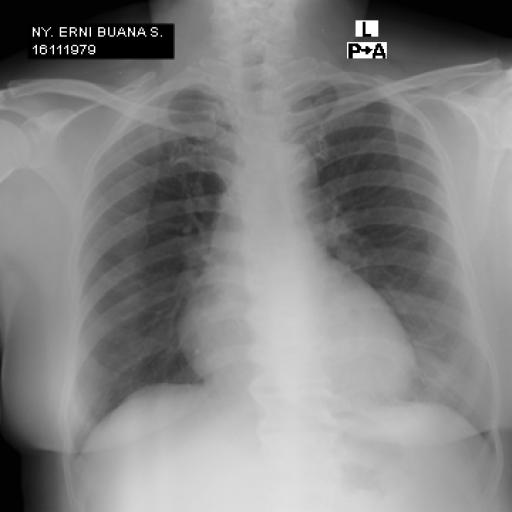kardiomegali: (55, 46, 505, 472)
